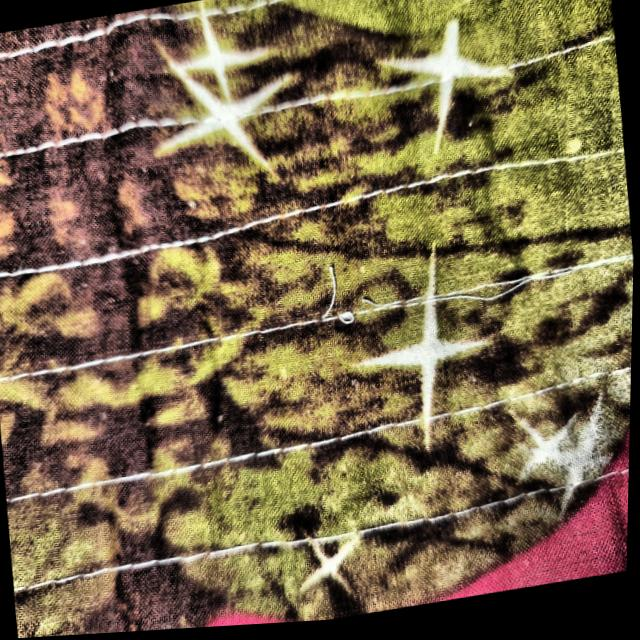Stitch: (298, 247, 404, 350)
